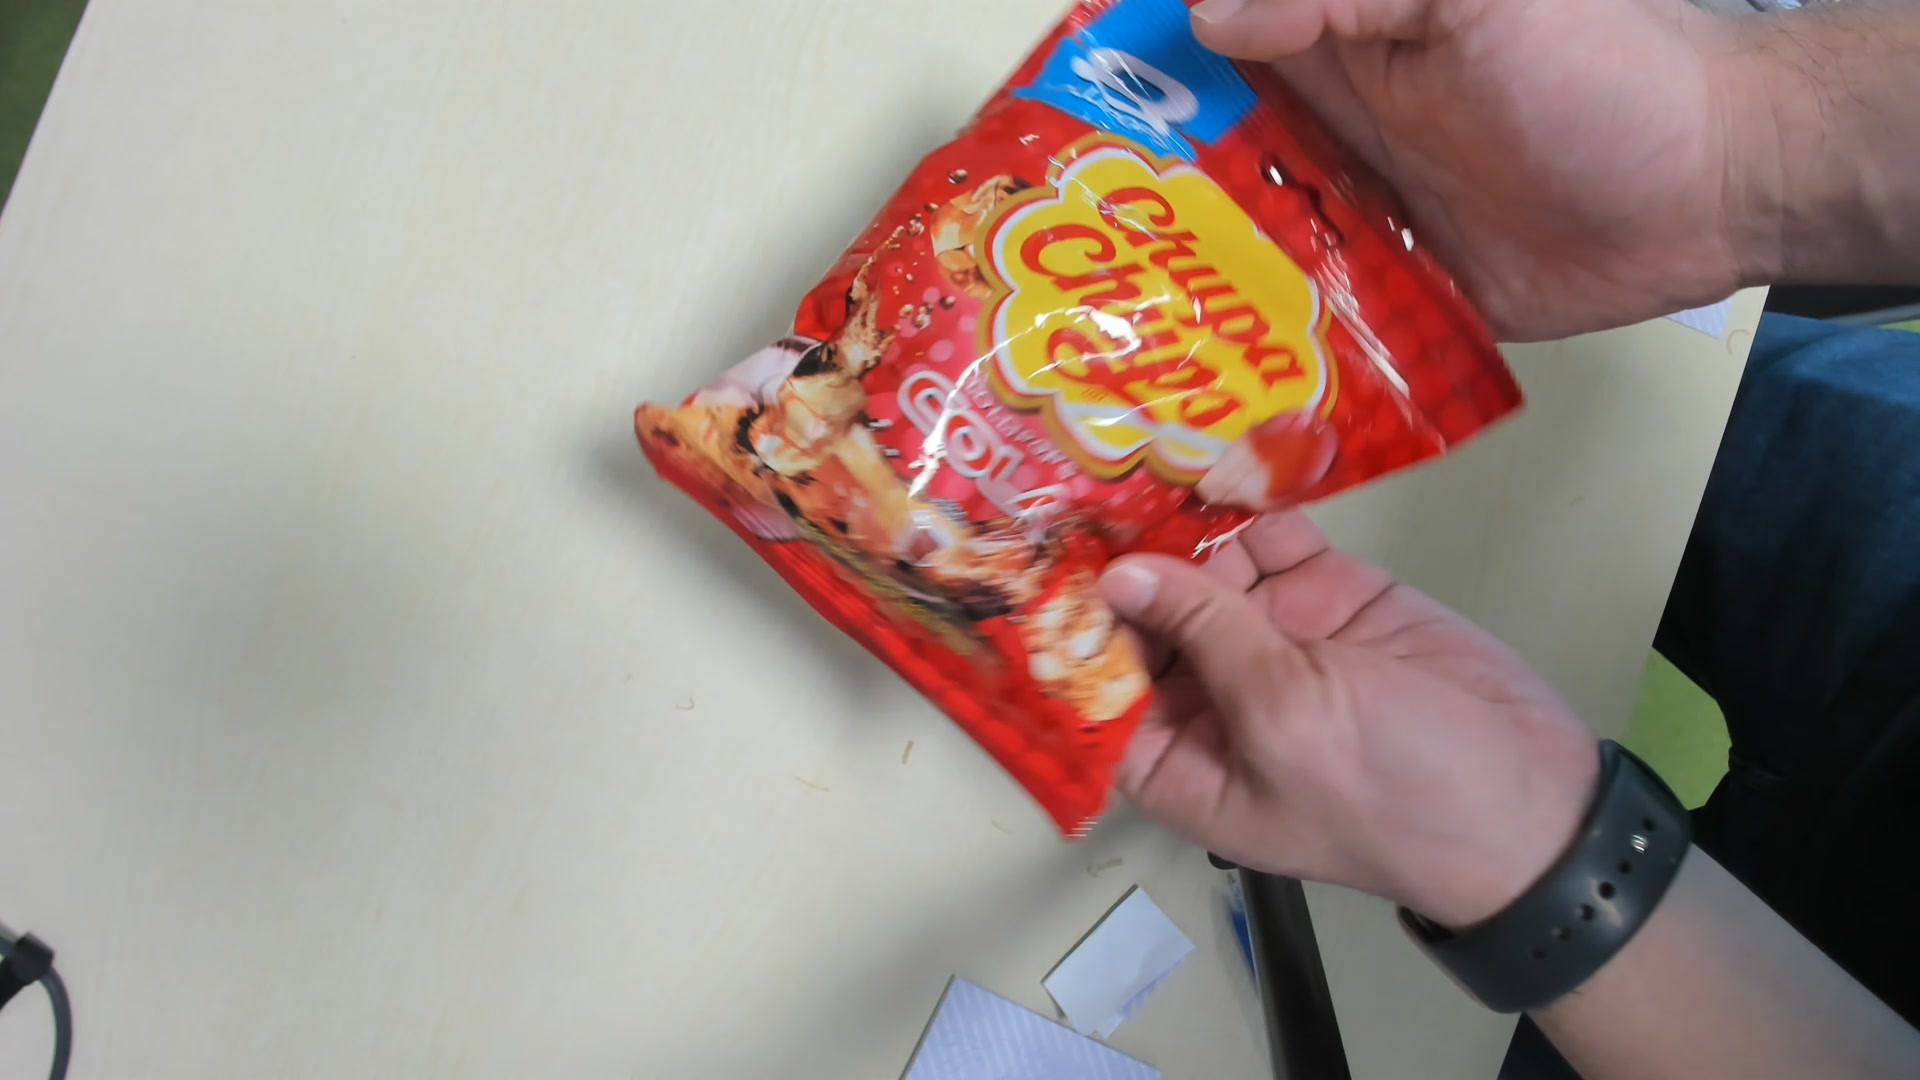SweetsChocolatesOthers_0-99g_NonHalal_Nonhealthy: (649, 15, 1520, 841)
